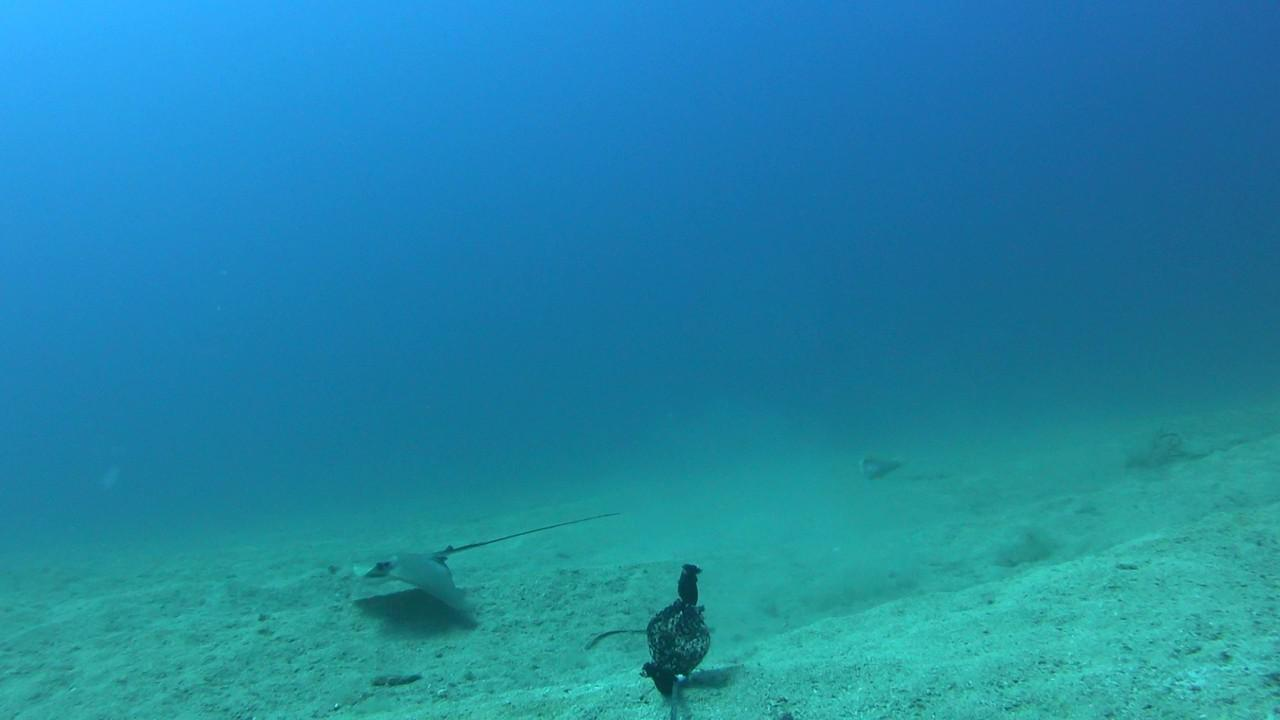myliobatis: (327, 501, 631, 608)
raor: (862, 450, 904, 479)
